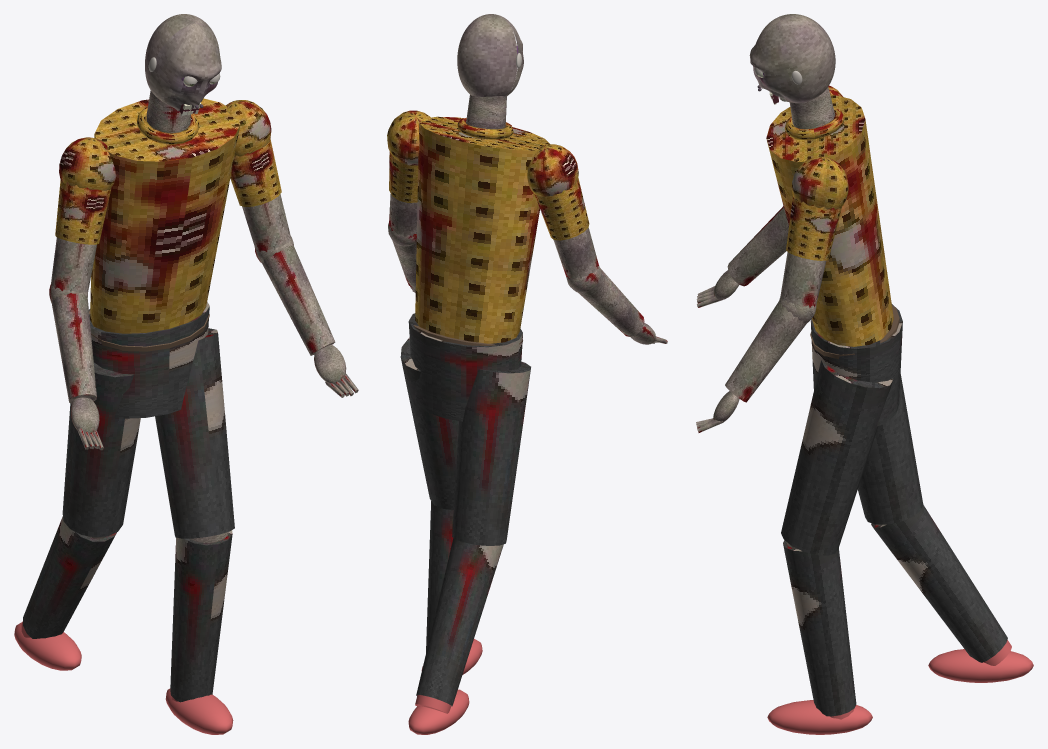
The model's file is zombie.glb.
3 views of the same model, side by side, from view 1: azimuth 30°, elevation 25°; view 2: azimuth 150°, elevation 25°; view 3: azimuth 270°, elevation 25° (orthographic). The views are drawn at different scales.
Parts seen in each view (by area): view 1: Zombie_003, object 16, object 10, object 3, object 11, object 4; view 2: Zombie_003, object 16, object 3, object 10, object 2; view 3: Zombie_003, object 16, object 10, object 3.
Boxes of the visible parts, x1,y1,x2,y2 form: Zombie_003: (14,90,291,734); object 16: (145,14,221,110); object 10: (261,245,335,355); object 3: (51,293,96,404); object 11: (314,344,346,383); object 4: (71,397,99,433); Zombie_003: (387,94,598,734); object 16: (457,14,523,96); object 3: (578,268,644,336); object 10: (392,241,416,288); object 2: (566,265,600,293); Zombie_003: (766,85,1033,734); object 16: (749,14,835,103); object 10: (725,301,806,402); object 3: (727,206,788,286).
Size of the model in its own units: 0.7797 by 1.98 by 0.8633.
15 materials, 5 textured.
